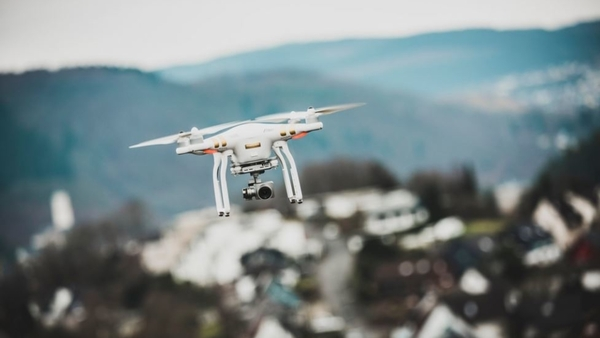drone: (128, 100, 367, 219)
